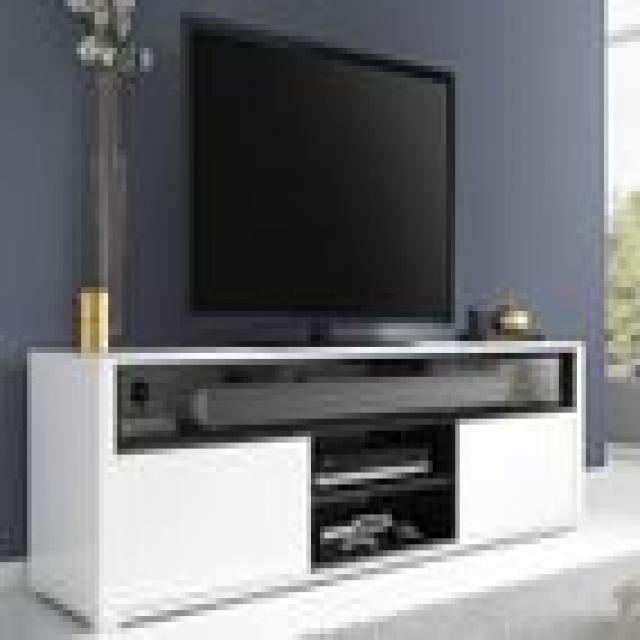others: (162, 6, 478, 335)
